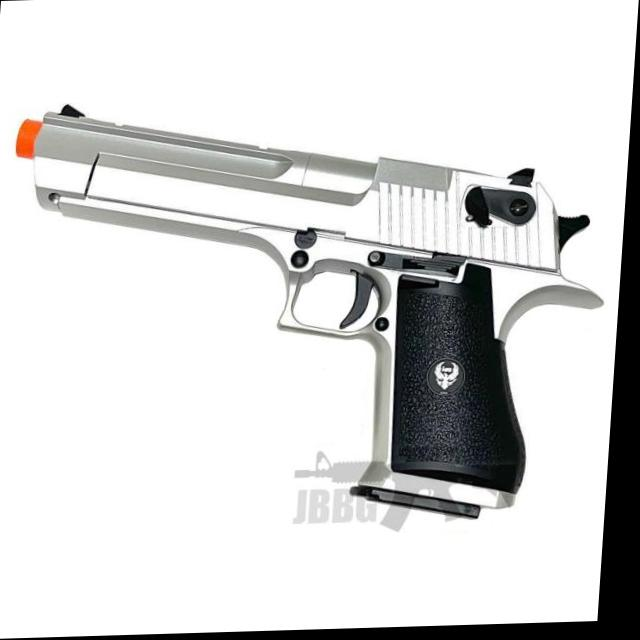handgun: (0, 80, 618, 601)
